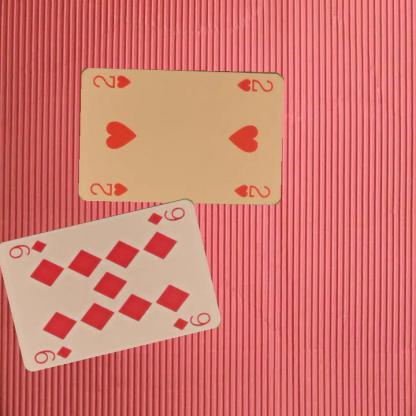2h: (88, 180, 130, 197), (235, 76, 275, 93)
9d: (31, 343, 74, 365), (144, 204, 186, 226)
